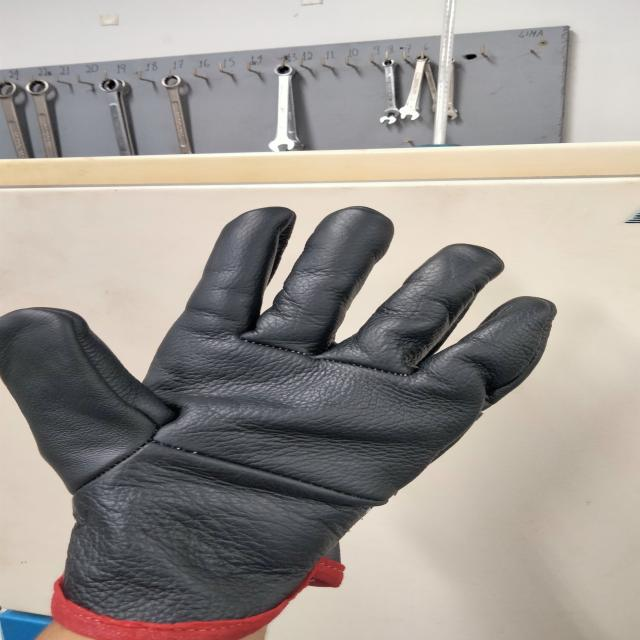Gloves: (0, 199, 564, 638)
